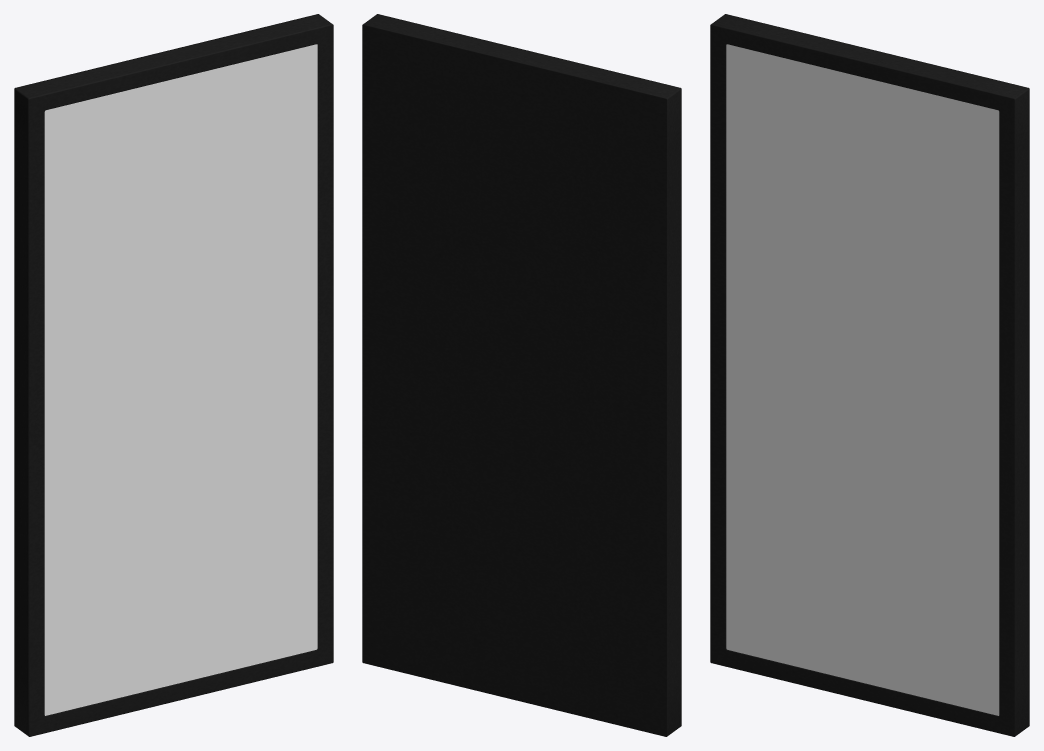
File: Wall_Mounted_indoor_digital_screen.fbx
The picture shows the model from 3 angles, left to right: view 1: azimuth 30°, elevation 25°; view 2: azimuth 150°, elevation 25°; view 3: azimuth 330°, elevation 25°; orthographic projection.
Visible parts, largest first — view 1: Wall_Mounted_indoor_digital_screen_Ad001, Wall_Mounted_indoor_digital_screen_Frame; view 2: Wall_Mounted_indoor_digital_screen_Frame; view 3: Wall_Mounted_indoor_digital_screen_Ad001, Wall_Mounted_indoor_digital_screen_Frame.
Boxes of the visible parts, <box> form: Wall_Mounted_indoor_digital_screen_Ad001: <box>44,44,317,715</box>; Wall_Mounted_indoor_digital_screen_Frame: <box>14,14,333,736</box>; Wall_Mounted_indoor_digital_screen_Frame: <box>362,14,681,736</box>; Wall_Mounted_indoor_digital_screen_Ad001: <box>726,44,999,715</box>; Wall_Mounted_indoor_digital_screen_Frame: <box>710,14,1029,736</box>.
Bounding box in the file's own units: 30 × 60 × 2.5.
2 materials, 2 textured.
